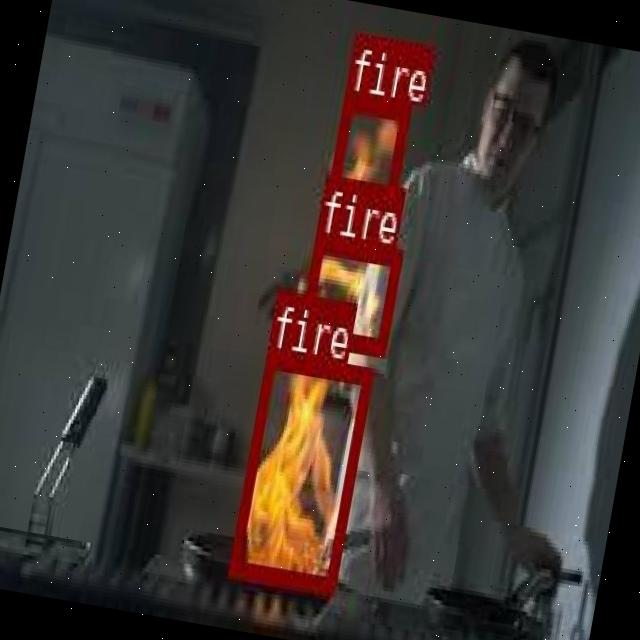fire: (226, 346, 374, 592), (296, 232, 402, 352), (325, 90, 410, 206)
